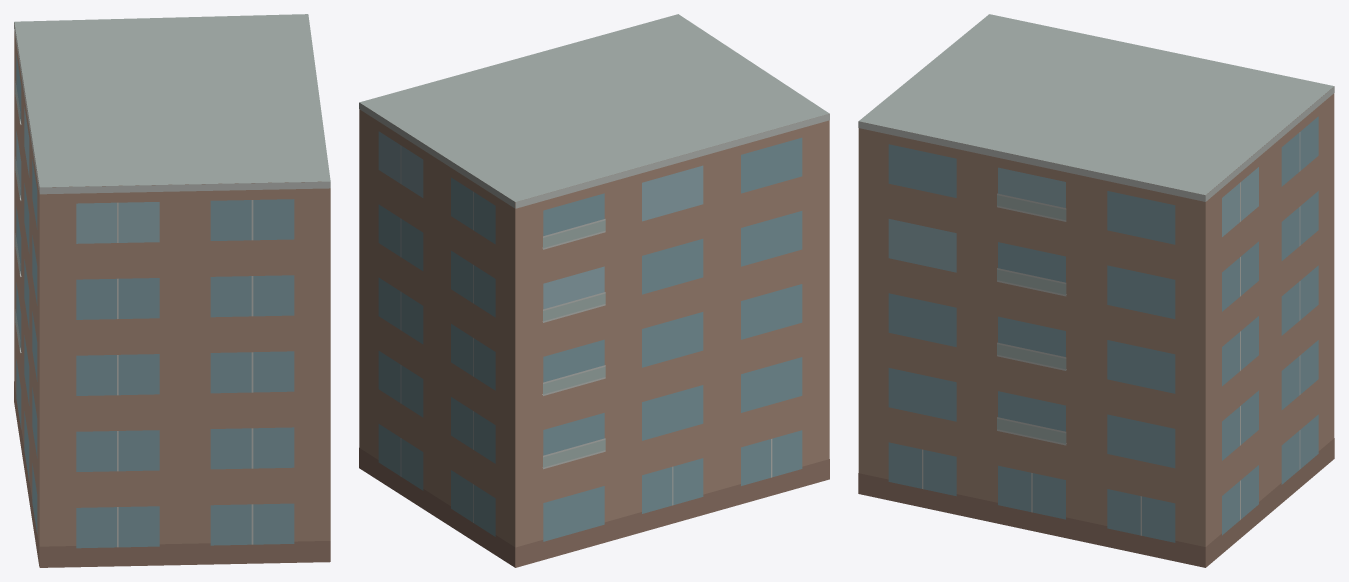
The model's file is survey-upis-33007342.glb.
The picture shows the model from 3 angles, left to right: view 1: azimuth 30°, elevation 25°; view 2: azimuth 150°, elevation 25°; view 3: azimuth 270°, elevation 25°; orthographic projection. The views are drawn at different scales.
Visible parts, largest first — view 1: survey-upis-33007342.tmp; view 2: survey-upis-33007342.tmp; view 3: survey-upis-33007342.tmp.
Part boxes in pixels (box(x1,y1,x2,y2)): survey-upis-33007342.tmp: box(14, 14, 330, 567); survey-upis-33007342.tmp: box(359, 14, 829, 567); survey-upis-33007342.tmp: box(858, 14, 1334, 567).
Size of the model in its own units: 13.98 by 13.4 by 15.52.
